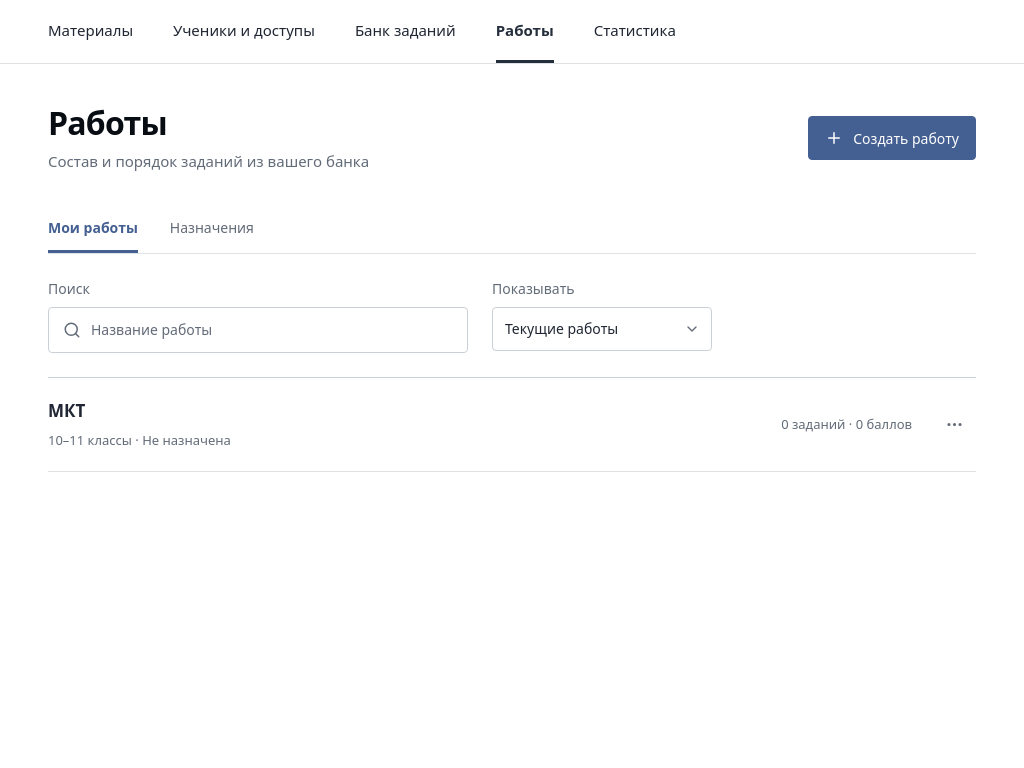
Test case: filters archives without a new navigation tab and restores through the same row menu
Click the button named "Действия с работой: МКТ" at (954, 424), box left=932, top=402, right=976, bottom=446
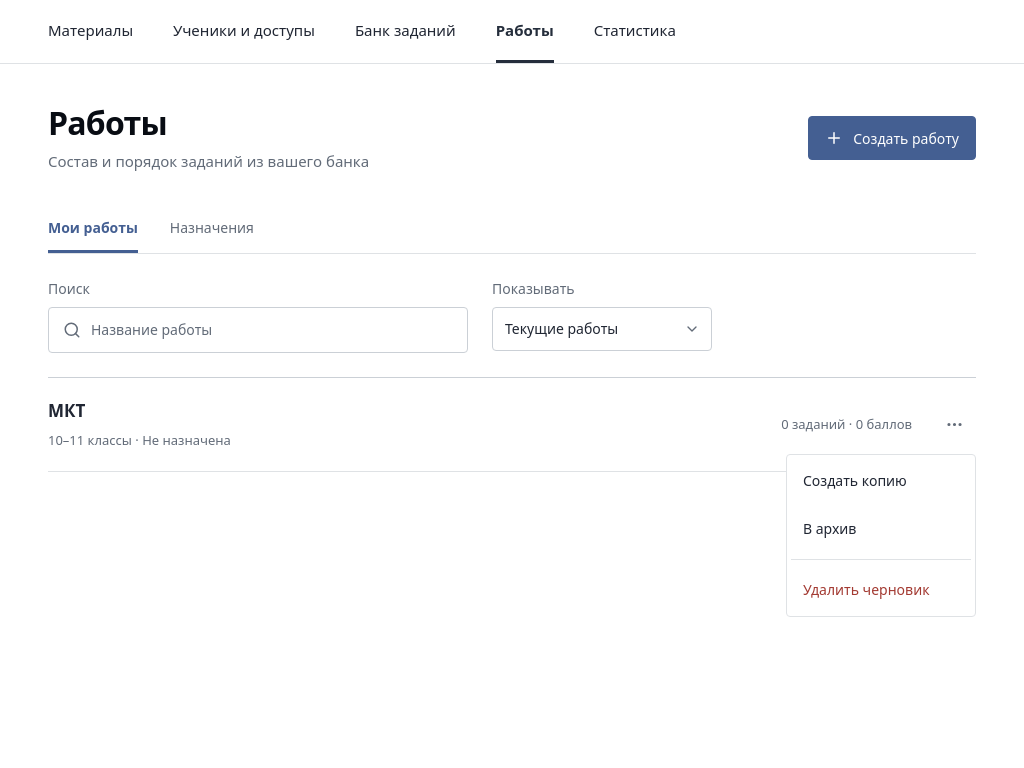
Click the menu item "В архив" at (830, 528), box left=803, top=519, right=856, bottom=538
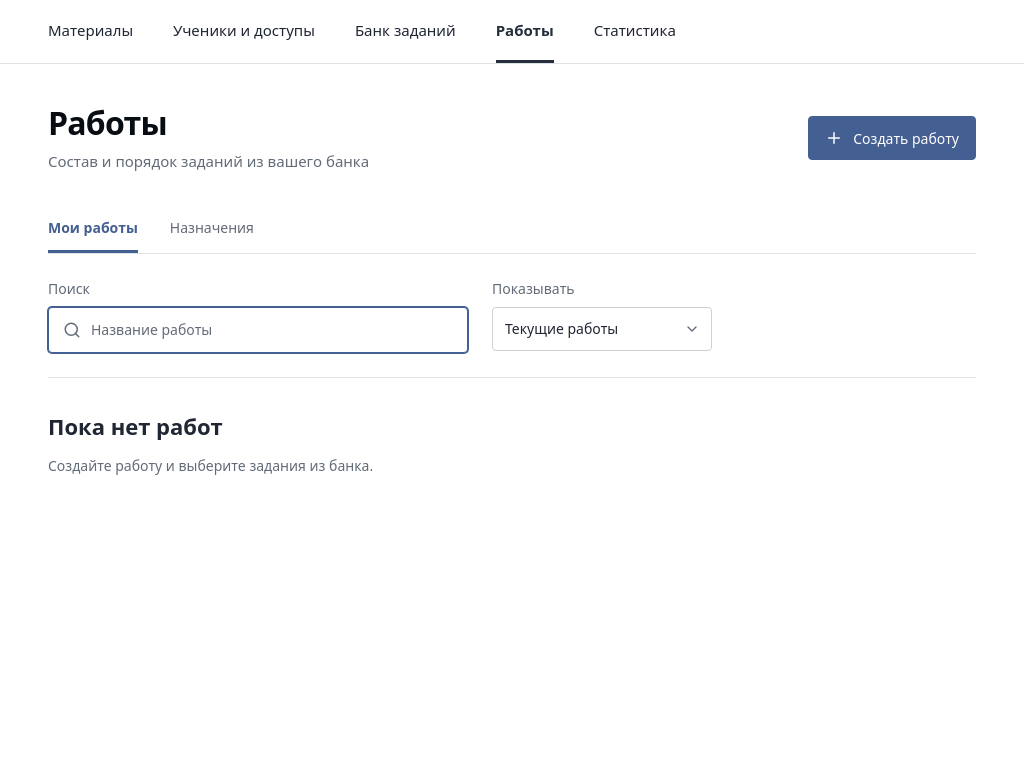
Select "Архив" in the dropdown labelled "Показывать" at (602, 329), box left=492, top=307, right=712, bottom=351
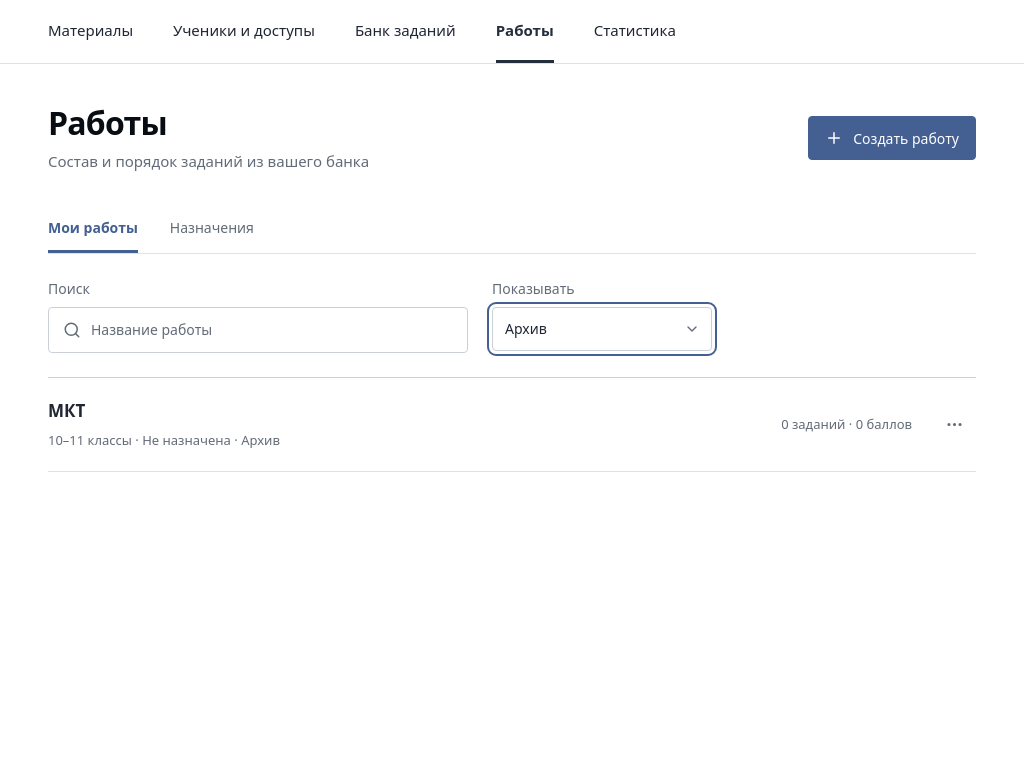
Expected: the button named "Действия с работой: МКТ" is shown
Click the button named "Действия с работой: МКТ" at (954, 424), box left=932, top=402, right=976, bottom=446
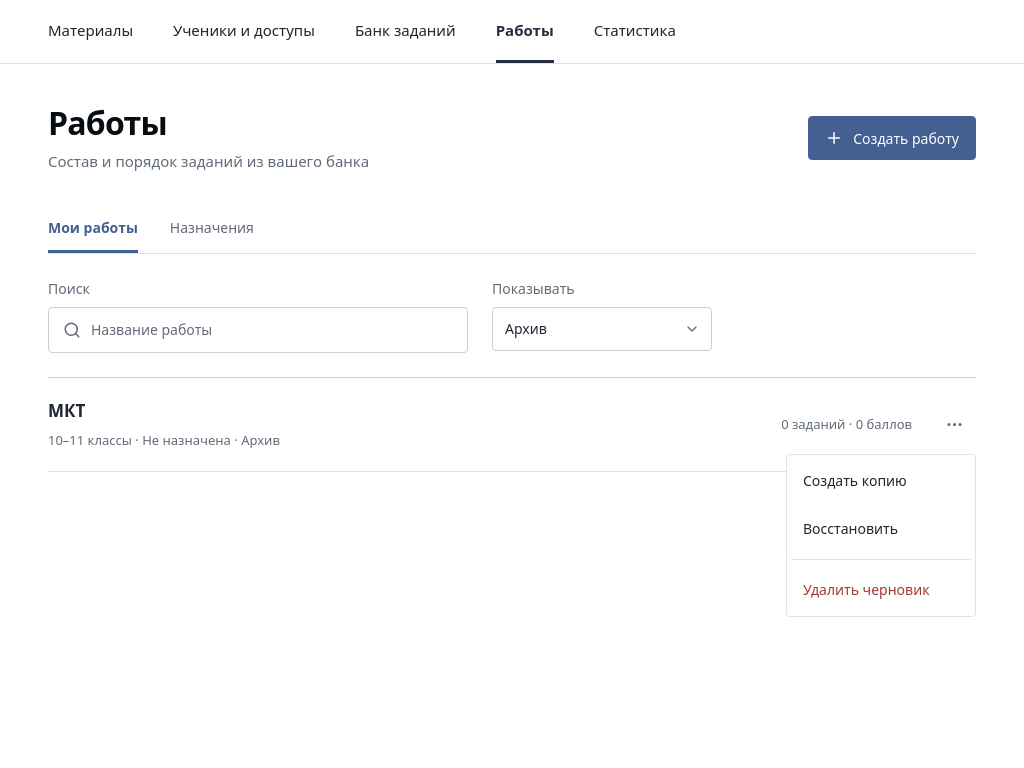
Click the menu item "Восстановить" at (850, 528), box left=803, top=519, right=898, bottom=538
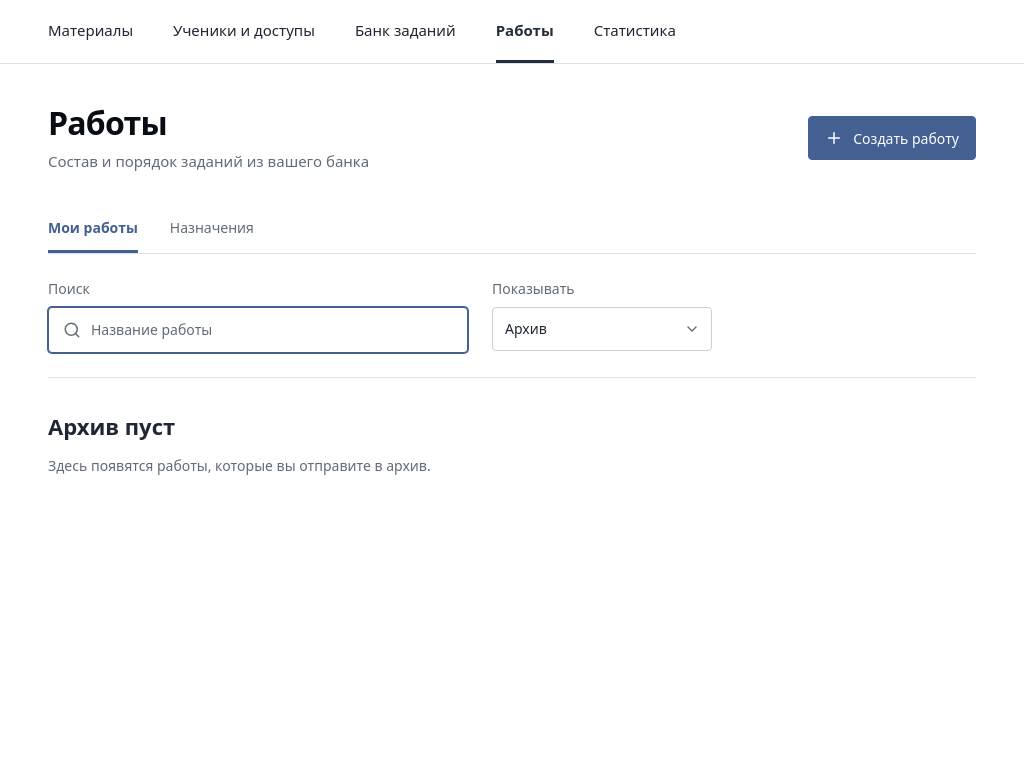
Expected: the heading "Архив пуст" is shown, left=48, top=411, right=175, bottom=441
Select "Текущие работы" in the dropdown labelled "Показывать" at (602, 329), box left=492, top=307, right=712, bottom=351
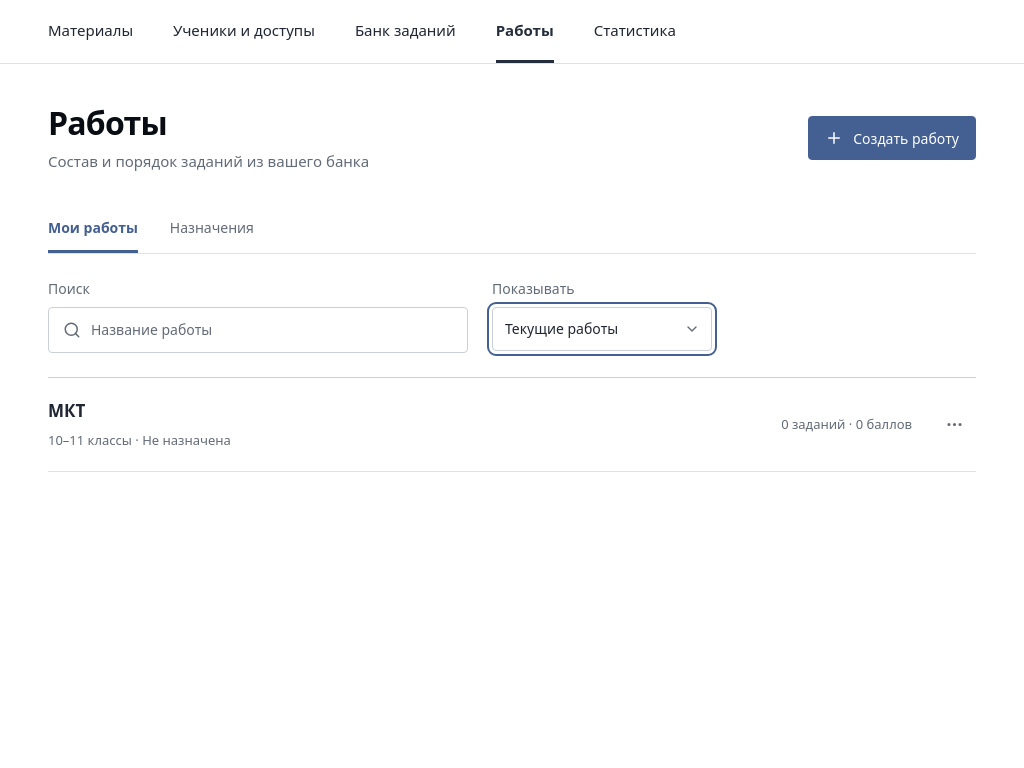
Expected: the button named "Действия с работой: МКТ" is shown, left=932, top=402, right=976, bottom=446
